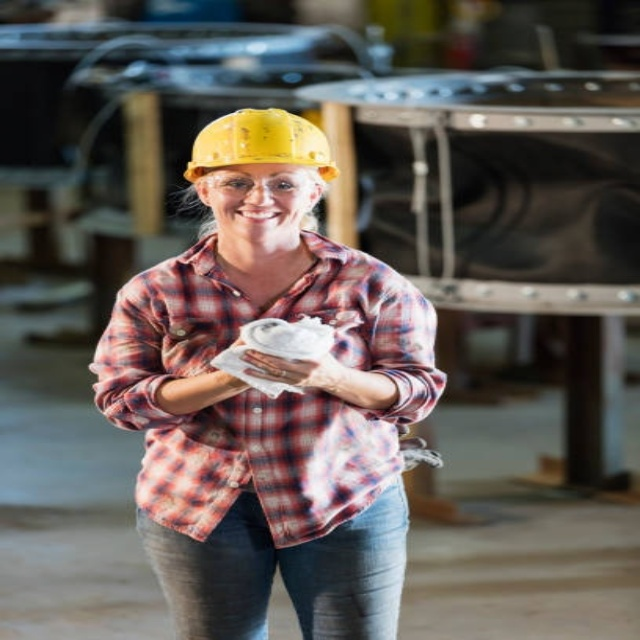Gafas: (199, 174, 329, 197)
Sin_guantes: (235, 341, 338, 398)
Sin_mascara: (226, 206, 281, 228)
